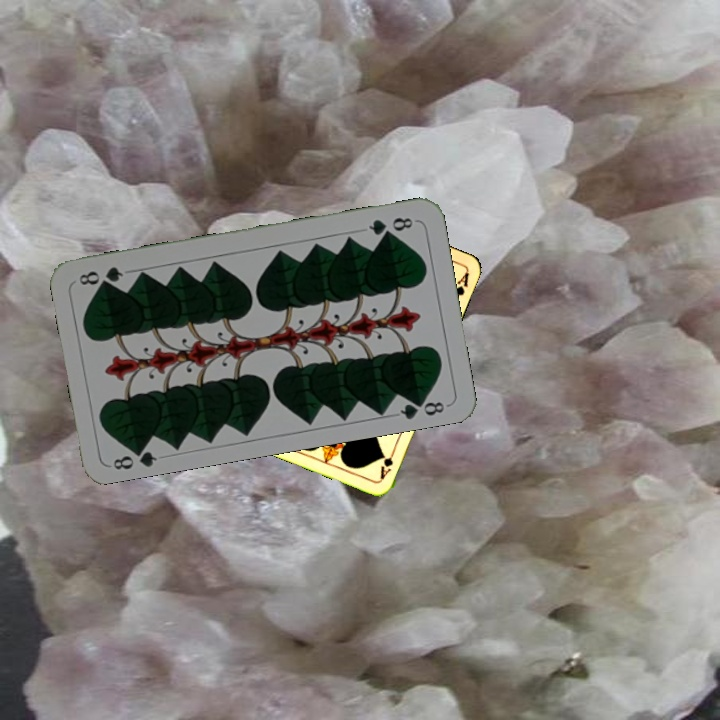G8: (109, 441, 160, 473), (364, 213, 416, 239)
GA: (376, 443, 399, 482)
